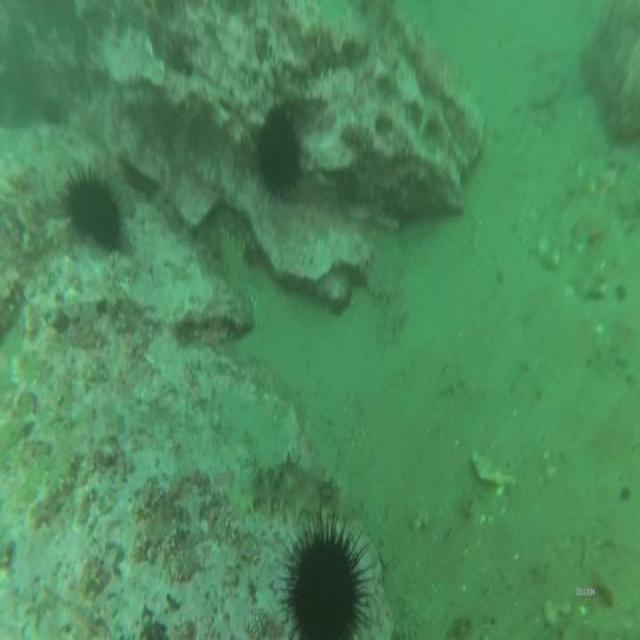echinus: (275, 488, 381, 640), (56, 155, 130, 262), (257, 98, 307, 201)
holothurian: (228, 447, 364, 539)
